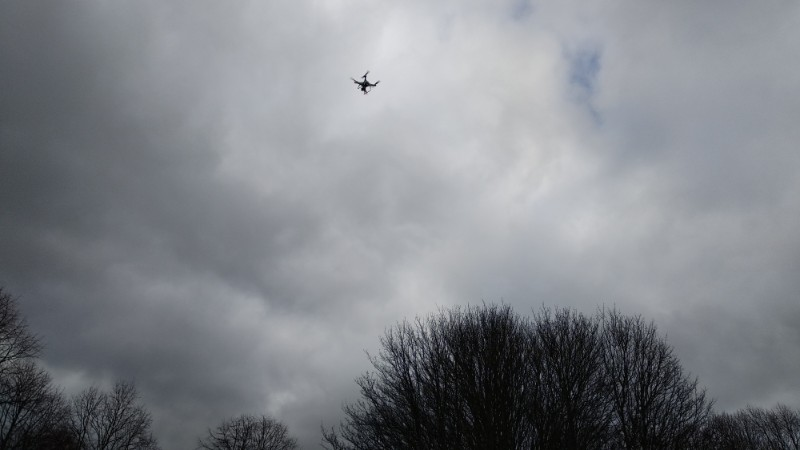drone: (351, 71, 382, 95)
